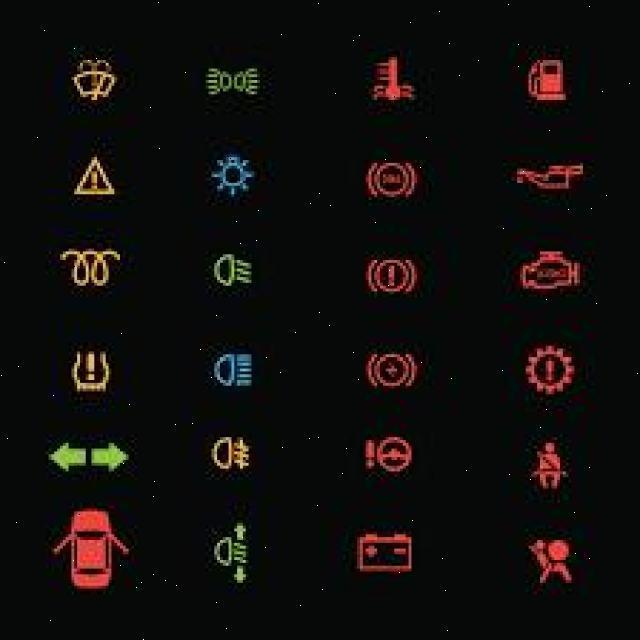Electronic Power Steering Warning: (360, 432, 416, 476)
Seat Belt: (532, 440, 568, 490)
Washer Fluid: (66, 54, 119, 104)
